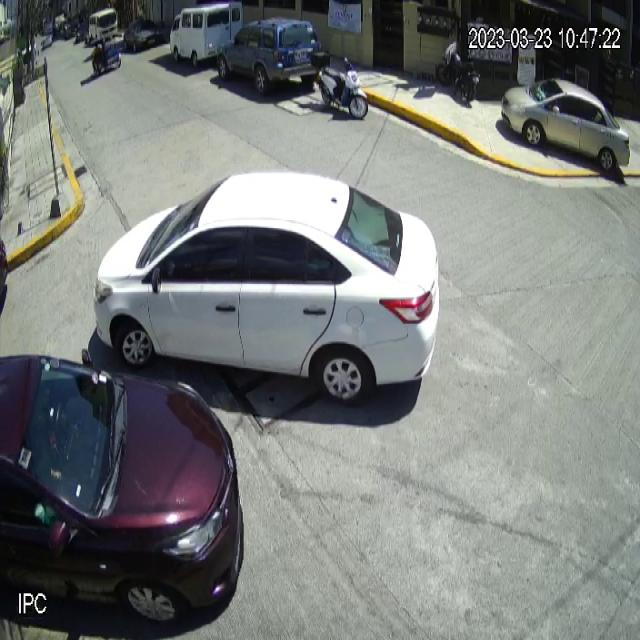Car: (92, 170, 441, 409), (3, 351, 248, 629), (500, 78, 630, 174), (218, 17, 324, 99)
Motorcycle: (312, 48, 369, 120)
Van: (170, 1, 245, 67)
